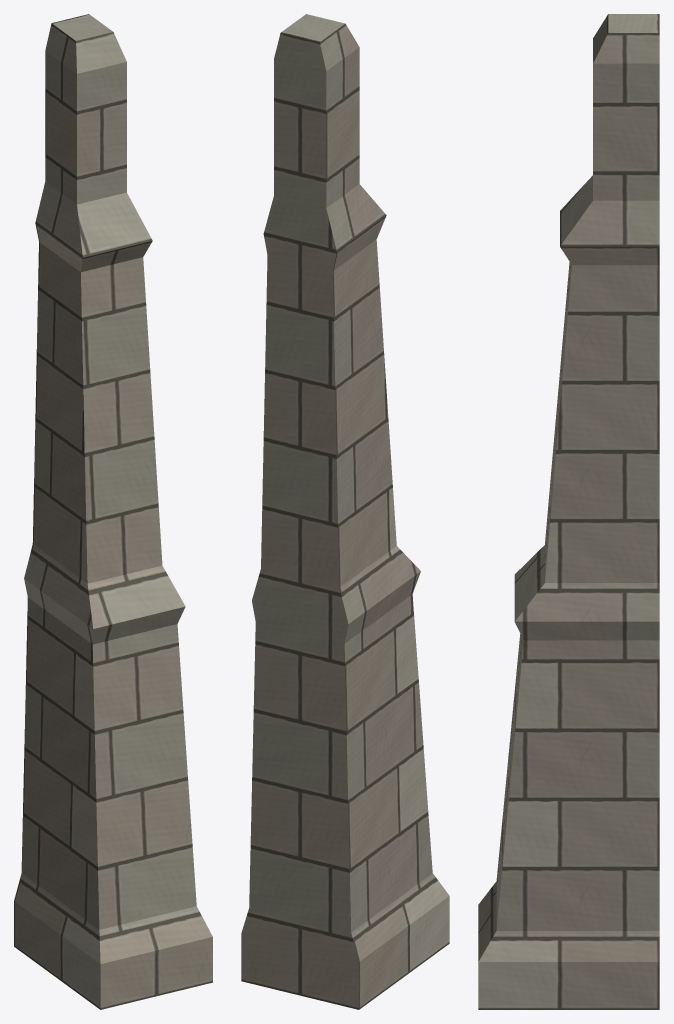
File: Furn_Buttress2.fbx
3 renders of one model, left to right at view 1: azimuth 30°, elevation 25°; view 2: azimuth 150°, elevation 25°; view 3: azimuth 270°, elevation 25°, orthographic. The views are drawn at different scales.
Visible parts, largest first — view 1: Furn_Buttress2; view 2: Furn_Buttress2; view 3: Furn_Buttress2.
Part boxes in pixels (x1,y1,x2,y2): Furn_Buttress2: (14, 14, 212, 1009); Furn_Buttress2: (241, 14, 449, 1009); Furn_Buttress2: (478, 14, 659, 1009).
Bounding box in the file's own units: 0.9 × 7 × 1.2.
